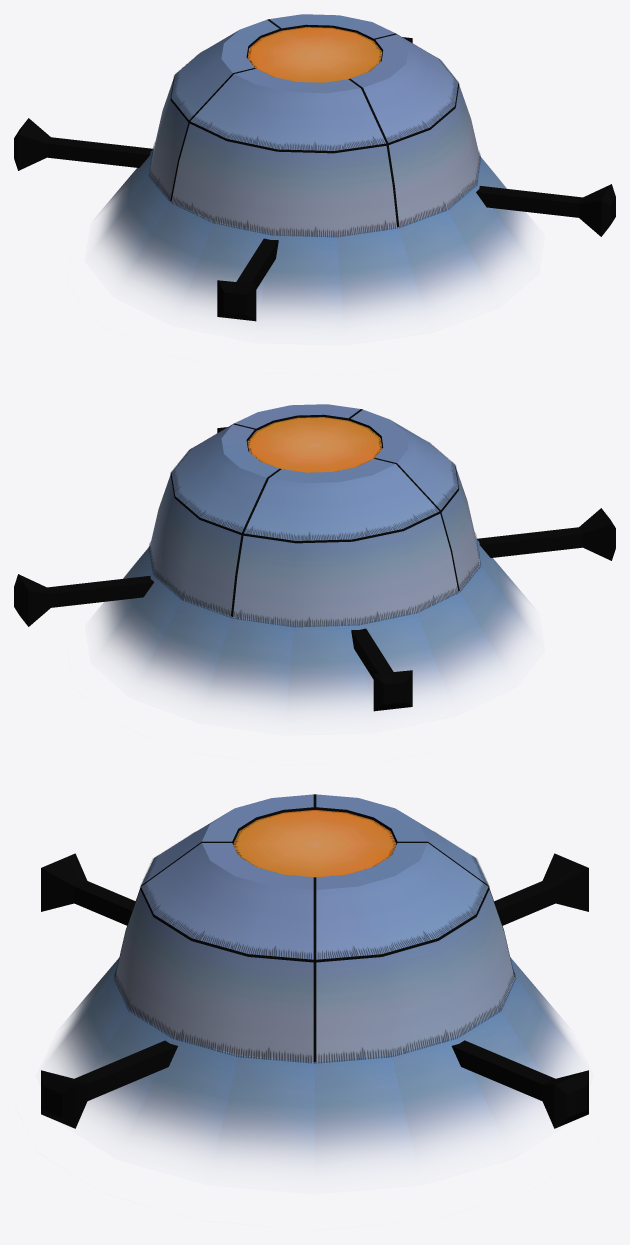
Rendered from SciFi_Drone.glb.
The picture shows the model from 3 angles, top to bottom: view 1: azimuth 30°, elevation 25°; view 2: azimuth 150°, elevation 25°; view 3: azimuth 270°, elevation 25°; orthographic projection. The views are drawn at different scales.
Visible parts, largest first — view 1: SciFi_Drone; view 2: SciFi_Drone; view 3: SciFi_Drone.
Boxes of the visible parts, x1,y1,x2,y2 form: SciFi_Drone: [14, 14, 615, 323]; SciFi_Drone: [14, 404, 615, 713]; SciFi_Drone: [41, 794, 588, 1168].
Bounding box in the file's own units: 1.77 × 0.8461 × 1.77.
2 materials, 2 textured.
